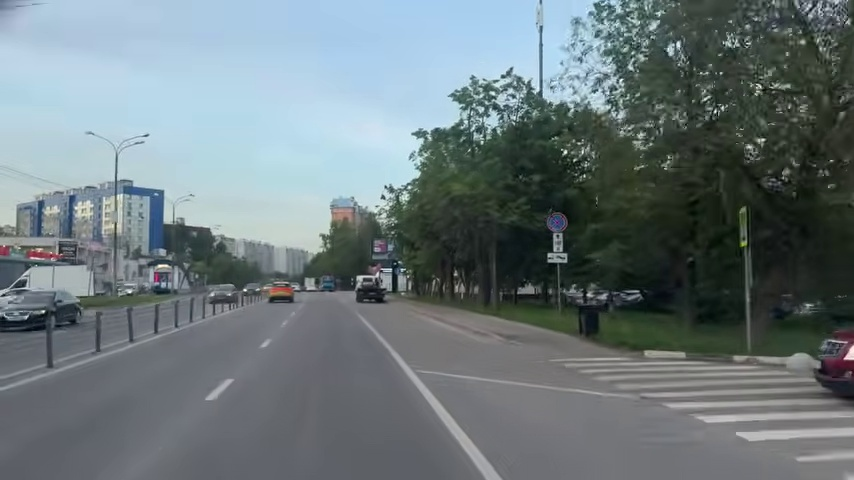apagada: (132, 131, 151, 148), (84, 128, 99, 142)
